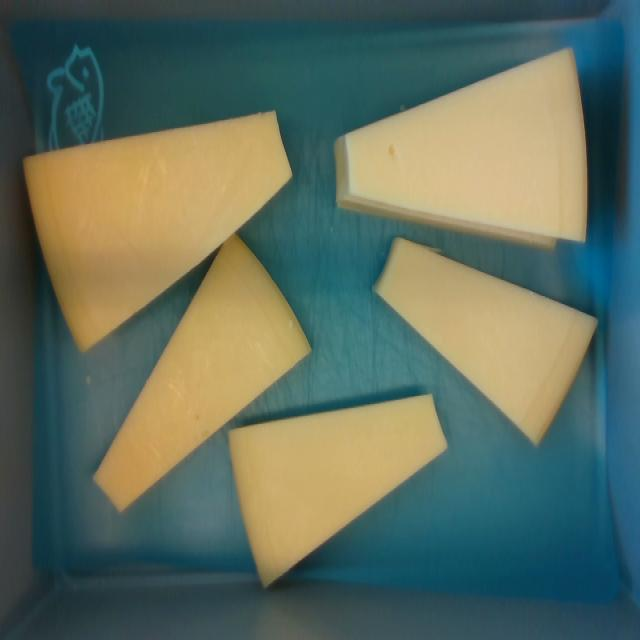Cheese: (25, 112, 291, 349), (95, 236, 310, 508), (346, 47, 588, 243), (376, 239, 596, 443), (230, 395, 446, 585)
